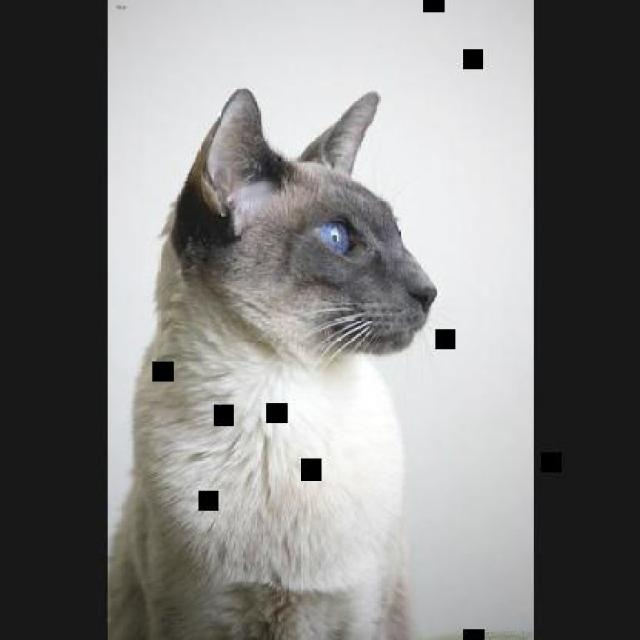unauthorized: (106, 86, 439, 639)
